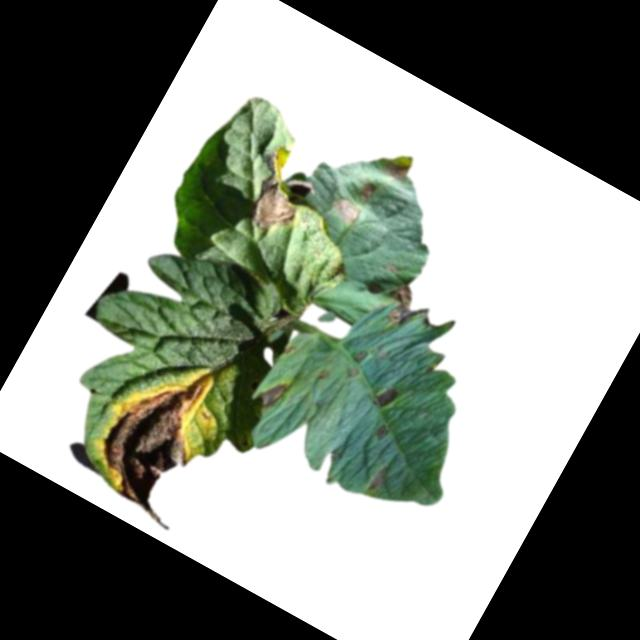Early_blight: (79, 346, 243, 534), (232, 139, 333, 248), (378, 280, 426, 331), (256, 372, 293, 414), (360, 460, 393, 498), (329, 194, 364, 226), (370, 380, 401, 413), (384, 156, 413, 185), (356, 178, 381, 206), (372, 421, 394, 444), (345, 365, 363, 384), (317, 370, 332, 384)
